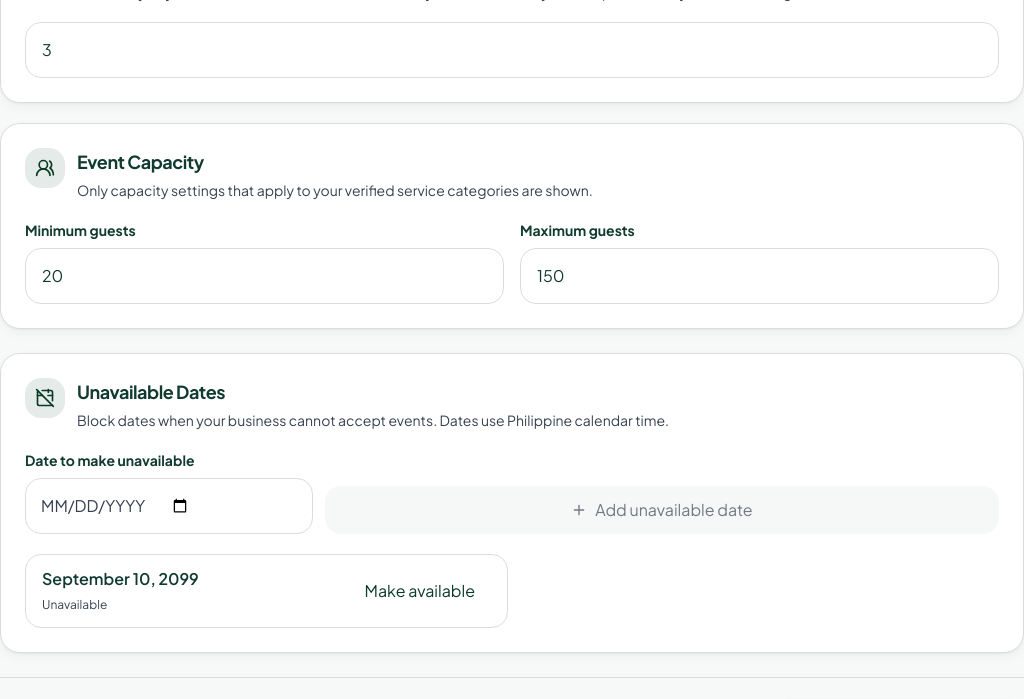
provider availability workspace › removes a future unavailable date through the canonical callable
The width and height of the screenshot is (1024, 699).
(page scrolled)
Click the button with aria-label "Make September 10, 2099 available": (420, 591) [348,567,491,615]
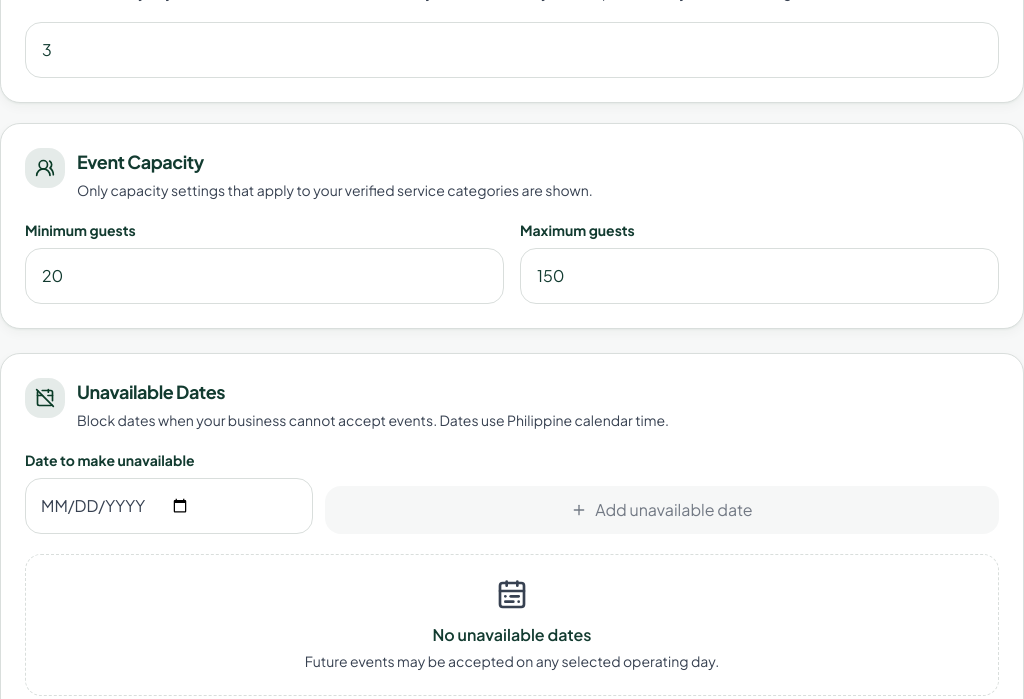
Expected: the text "No unavailable dates" is shown, [432,624,592,645]
